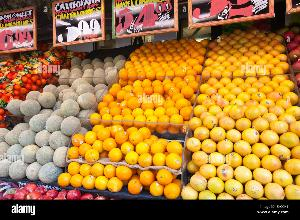melon: (0, 123, 88, 179), (14, 78, 102, 120), (57, 48, 126, 78)
orange: (186, 77, 300, 200), (66, 124, 184, 198), (92, 74, 200, 124), (201, 27, 287, 77), (119, 34, 207, 80), (0, 42, 48, 107)
